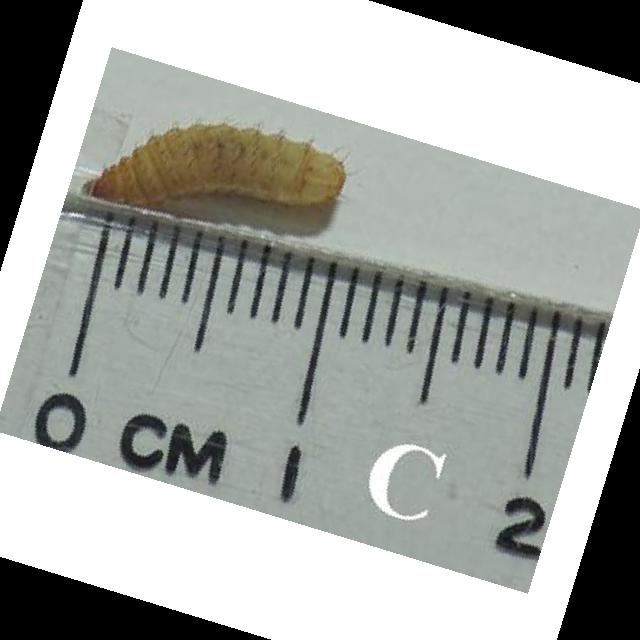Maggot: (85, 110, 351, 215)
